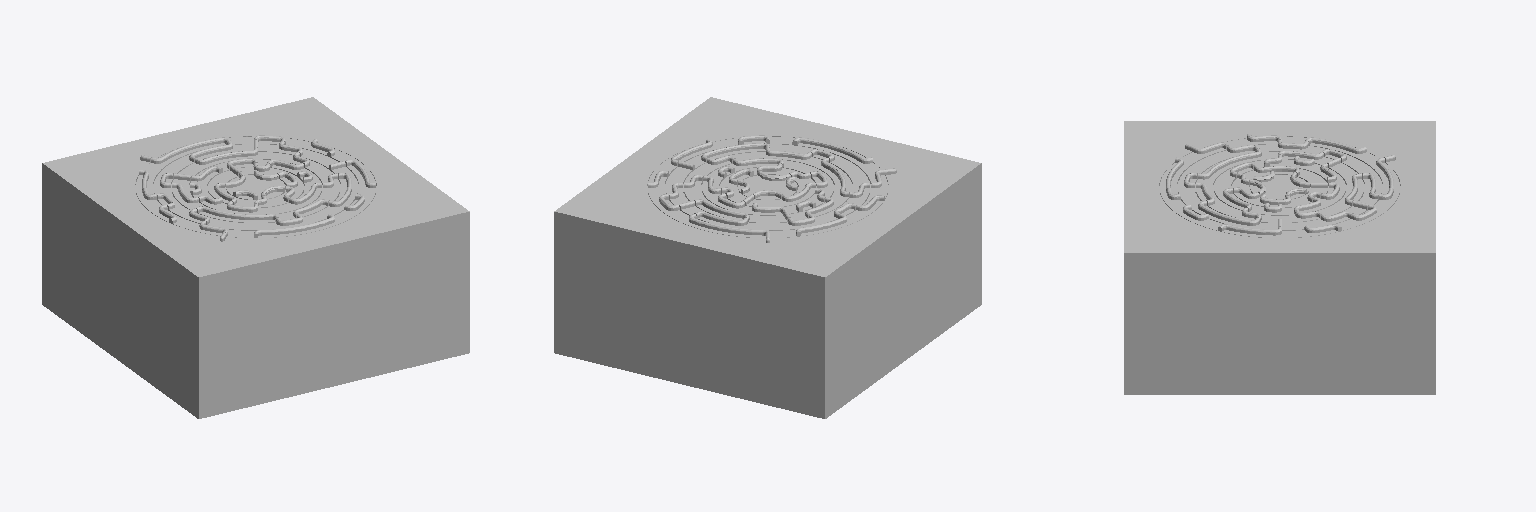
The model's file is Scrigno3.obj.
3 renders of one model, left to right at view 1: azimuth 30°, elevation 25°; view 2: azimuth 150°, elevation 25°; view 3: azimuth 270°, elevation 25°, orthographic.
Visible parts, largest first — view 1: Scrigno3_Base_Scrigno3_Base_Scrigno3_Base_191,191,191.001, Scrigno3_Coperchio4_Scrigno3_Coperchio4_Scrigno3_Coperchio4, Scrigno3_Ghiera3.6_Scrigno3_Ghiera3.6_Scrigno3_Ghiera3.6_19, Scrigno3_Ghiera3.5_Scrigno3_Ghiera3.5_Scrigno3_Ghiera3.5_19, Scrigno3_Ghiera3.4_Scrigno3_Ghiera3.4_Scrigno3_Ghiera3.4_19, Scrigno3_Ghiera3.3_Scrigno3_Ghiera3.3_Scrigno3_Ghiera3.3_19, Scrigno3_Ghiera3.2_Scrigno3_Ghiera3.2_Scrigno3_Ghiera3.2_19, Scrigno3_Ghiera3.1_Scrigno3_Ghiera3.1_Scrigno3_Ghiera3.1_19; view 2: Scrigno3_Base_Scrigno3_Base_Scrigno3_Base_191,191,191.001, Scrigno3_Coperchio4_Scrigno3_Coperchio4_Scrigno3_Coperchio4, Scrigno3_Ghiera3.6_Scrigno3_Ghiera3.6_Scrigno3_Ghiera3.6_19, Scrigno3_Ghiera3.5_Scrigno3_Ghiera3.5_Scrigno3_Ghiera3.5_19, Scrigno3_Ghiera3.4_Scrigno3_Ghiera3.4_Scrigno3_Ghiera3.4_19, Scrigno3_Ghiera3.3_Scrigno3_Ghiera3.3_Scrigno3_Ghiera3.3_19, Scrigno3_Ghiera3.2_Scrigno3_Ghiera3.2_Scrigno3_Ghiera3.2_19, Scrigno3_Ghiera3.1_Scrigno3_Ghiera3.1_Scrigno3_Ghiera3.1_19; view 3: Scrigno3_Base_Scrigno3_Base_Scrigno3_Base_191,191,191.001, Scrigno3_Coperchio4_Scrigno3_Coperchio4_Scrigno3_Coperchio4, Scrigno3_Ghiera3.6_Scrigno3_Ghiera3.6_Scrigno3_Ghiera3.6_19, Scrigno3_Ghiera3.5_Scrigno3_Ghiera3.5_Scrigno3_Ghiera3.5_19, Scrigno3_Ghiera3.4_Scrigno3_Ghiera3.4_Scrigno3_Ghiera3.4_19, Scrigno3_Ghiera3.3_Scrigno3_Ghiera3.3_Scrigno3_Ghiera3.3_19, Scrigno3_Ghiera3.2_Scrigno3_Ghiera3.2_Scrigno3_Ghiera3.2_19, Scrigno3_Ghiera3.1_Scrigno3_Ghiera3.1_Scrigno3_Ghiera3.1_19.
Part boxes in pixels (bbox=[...]): Scrigno3_Base_Scrigno3_Base_Scrigno3_Base_191,191,191.001: bbox=[42, 196, 469, 418]; Scrigno3_Coperchio4_Scrigno3_Coperchio4_Scrigno3_Coperchio4: bbox=[42, 97, 469, 309]; Scrigno3_Ghiera3.6_Scrigno3_Ghiera3.6_Scrigno3_Ghiera3.6_19: bbox=[136, 135, 375, 237]; Scrigno3_Ghiera3.5_Scrigno3_Ghiera3.5_Scrigno3_Ghiera3.5_19: bbox=[154, 140, 357, 230]; Scrigno3_Ghiera3.4_Scrigno3_Ghiera3.4_Scrigno3_Ghiera3.4_19: bbox=[172, 147, 339, 222]; Scrigno3_Ghiera3.3_Scrigno3_Ghiera3.3_Scrigno3_Ghiera3.3_19: bbox=[190, 158, 321, 214]; Scrigno3_Ghiera3.2_Scrigno3_Ghiera3.2_Scrigno3_Ghiera3.2_19: bbox=[208, 163, 303, 207]; Scrigno3_Ghiera3.1_Scrigno3_Ghiera3.1_Scrigno3_Ghiera3.1_19: bbox=[226, 170, 285, 199]; Scrigno3_Base_Scrigno3_Base_Scrigno3_Base_191,191,191.001: bbox=[554, 196, 981, 418]; Scrigno3_Coperchio4_Scrigno3_Coperchio4_Scrigno3_Coperchio4: bbox=[554, 97, 981, 309]; Scrigno3_Ghiera3.6_Scrigno3_Ghiera3.6_Scrigno3_Ghiera3.6_19: bbox=[648, 135, 887, 237]; Scrigno3_Ghiera3.5_Scrigno3_Ghiera3.5_Scrigno3_Ghiera3.5_19: bbox=[666, 143, 869, 230]; Scrigno3_Ghiera3.4_Scrigno3_Ghiera3.4_Scrigno3_Ghiera3.4_19: bbox=[684, 147, 851, 222]; Scrigno3_Ghiera3.3_Scrigno3_Ghiera3.3_Scrigno3_Ghiera3.3_19: bbox=[702, 158, 833, 215]; Scrigno3_Ghiera3.2_Scrigno3_Ghiera3.2_Scrigno3_Ghiera3.2_19: bbox=[720, 163, 815, 206]; Scrigno3_Ghiera3.1_Scrigno3_Ghiera3.1_Scrigno3_Ghiera3.1_19: bbox=[738, 171, 797, 199]; Scrigno3_Base_Scrigno3_Base_Scrigno3_Base_191,191,191.001: bbox=[1124, 286, 1435, 394]; Scrigno3_Coperchio4_Scrigno3_Coperchio4_Scrigno3_Coperchio4: bbox=[1124, 121, 1435, 285]; Scrigno3_Ghiera3.6_Scrigno3_Ghiera3.6_Scrigno3_Ghiera3.6_19: bbox=[1160, 134, 1399, 237]; Scrigno3_Ghiera3.5_Scrigno3_Ghiera3.5_Scrigno3_Ghiera3.5_19: bbox=[1178, 140, 1381, 230]; Scrigno3_Ghiera3.4_Scrigno3_Ghiera3.4_Scrigno3_Ghiera3.4_19: bbox=[1196, 148, 1363, 222]; Scrigno3_Ghiera3.3_Scrigno3_Ghiera3.3_Scrigno3_Ghiera3.3_19: bbox=[1214, 155, 1345, 215]; Scrigno3_Ghiera3.2_Scrigno3_Ghiera3.2_Scrigno3_Ghiera3.2_19: bbox=[1232, 165, 1327, 207]; Scrigno3_Ghiera3.1_Scrigno3_Ghiera3.1_Scrigno3_Ghiera3.1_19: bbox=[1250, 171, 1309, 199].
Size of the model in its own units: 42.56 by 21.94 by 42.56.